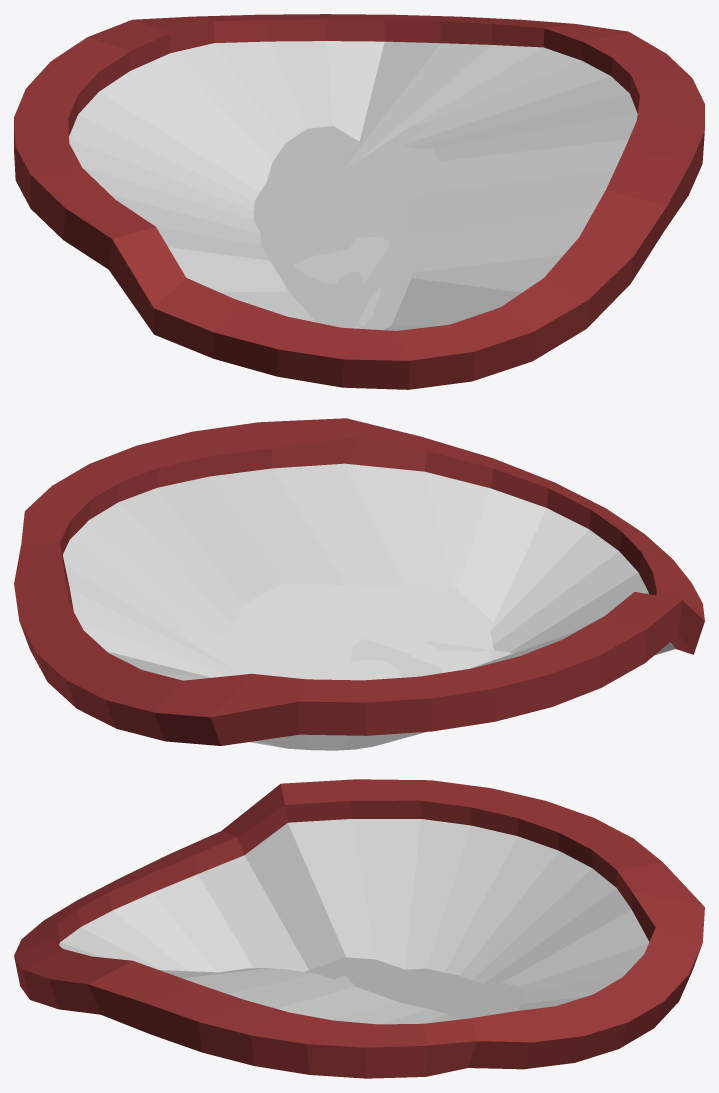
Rendered from 破损标识 (3).fbx.
3 renders of one model, top to bottom at view 1: azimuth 30°, elevation 25°; view 2: azimuth 150°, elevation 25°; view 3: azimuth 270°, elevation 25°, orthographic. The views are drawn at different scales.
Visible parts, largest first — view 1: Cylinder.024; view 2: Cylinder.024; view 3: Cylinder.024.
Boxes of the visible parts, <box> form: Cylinder.024: <box>14,14,704,389</box>; Cylinder.024: <box>14,418,704,750</box>; Cylinder.024: <box>14,779,704,1078</box>.
Size of the model in its own units: 2 by 0.5139 by 2.16.
